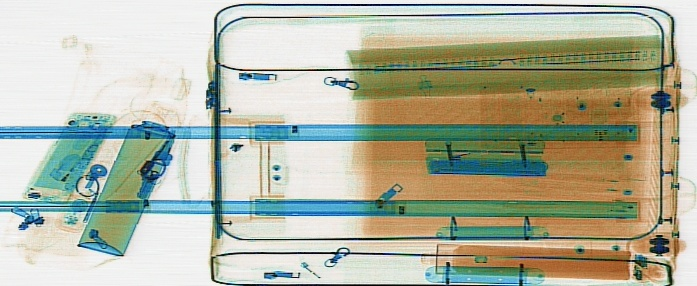lighter: (38, 153, 86, 217)
pressure: (73, 109, 180, 257)
